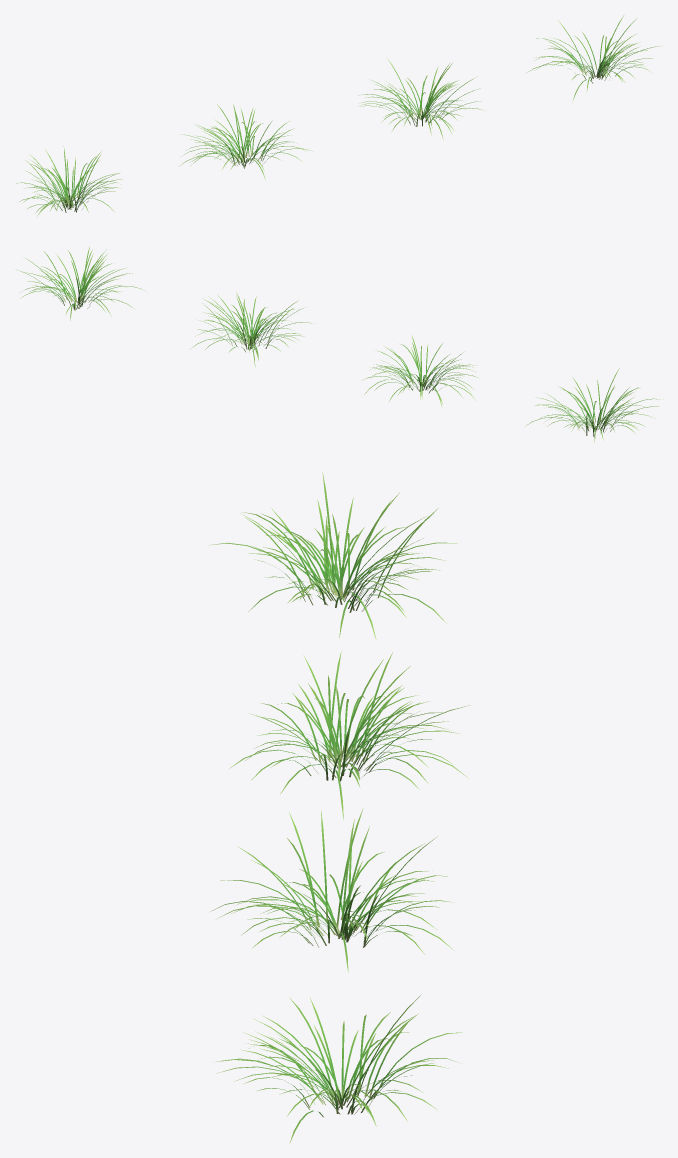
3 views of the same model, one above another, from view 1: azimuth 30°, elevation 25°; view 2: azimuth 150°, elevation 25°; view 3: azimuth 270°, elevation 25° (orthographic). The views are drawn at different scales.
Parts seen in each view (by area): view 1: hairgrass.001, hairgrass, hairgrass.002, hairgrass.003; view 2: hairgrass.002, hairgrass.003, hairgrass, hairgrass.001; view 3: hairgrass.001, hairgrass, hairgrass.002, hairgrass.003.
Boxes of the visible parts, x1=… form: hairgrass.001: x1=179, y1=104, x2=312, y2=179; hairgrass: x1=16, y1=146, x2=122, y2=216; hairgrass.002: x1=358, y1=58, x2=483, y2=139; hairgrass.003: x1=527, y1=15, x2=660, y2=100; hairgrass.002: x1=191, y1=292, x2=313, y2=366; hairgrass.003: x1=16, y1=247, x2=145, y2=320; hairgrass: x1=526, y1=368, x2=663, y2=442; hairgrass.001: x1=362, y1=335, x2=479, y2=407; hairgrass.001: x1=229, y1=651, x2=469, y2=819; hairgrass: x1=209, y1=472, x2=457, y2=639; hairgrass.002: x1=210, y1=808, x2=454, y2=972; hairgrass.003: x1=216, y1=995, x2=462, y2=1143.
Bounding box in the file's own units: 10.72 × 0.7741 × 1.98.
1 material, 1 textured.
